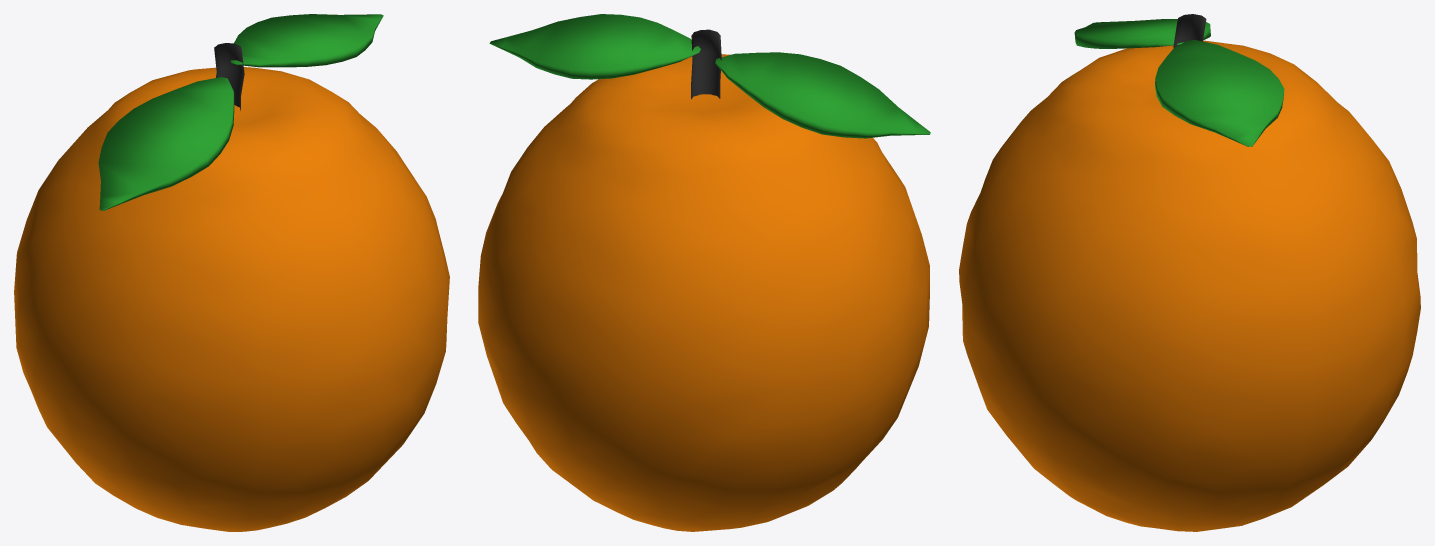
File: Orange2.fbx
3 renders of one model, left to right at view 1: azimuth 30°, elevation 25°; view 2: azimuth 150°, elevation 25°; view 3: azimuth 270°, elevation 25°, orthographic. The views are drawn at different scales.
Parts seen in each view (by area): view 1: Orange2; view 2: Orange2; view 3: Orange2.
Boxes of the visible parts, bbox=[...] form: Orange2: bbox=[14, 14, 449, 531]; Orange2: bbox=[478, 14, 930, 531]; Orange2: bbox=[959, 14, 1420, 531].
Bounding box in the file's own units: 0.9823 × 0.978 × 1.14.
